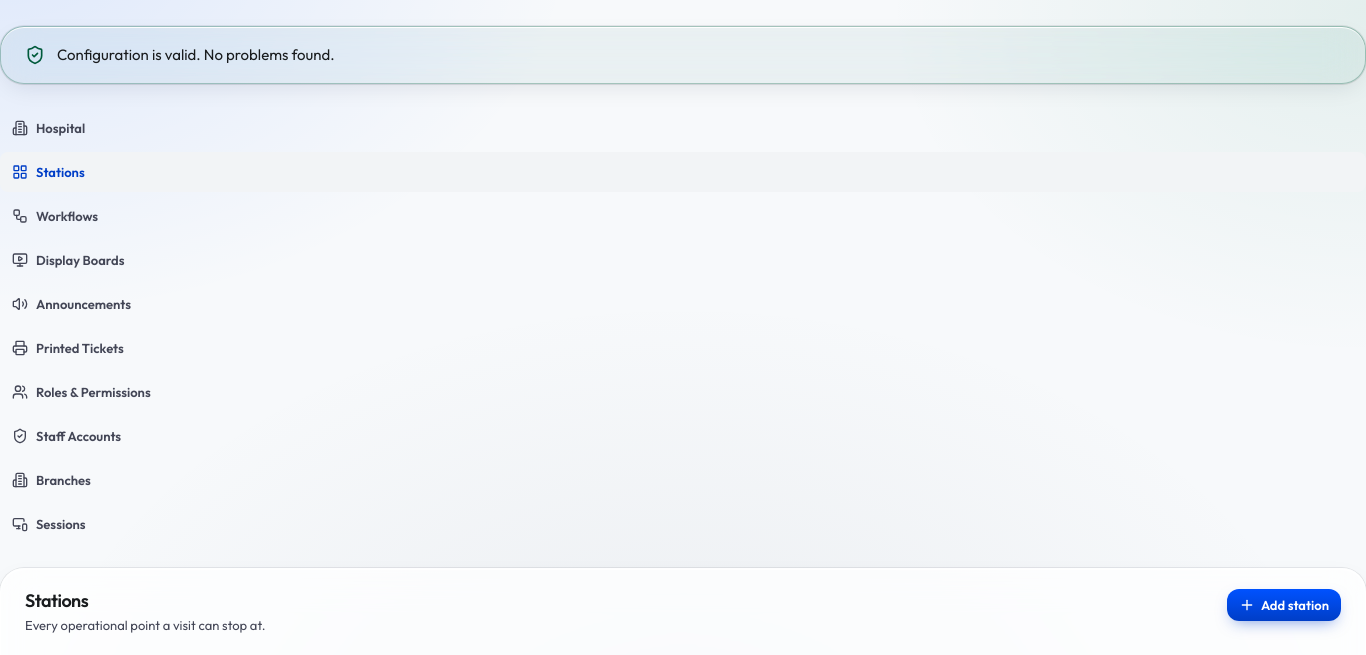
Test case: Administration Portal › adds a station without touching code
Click the button "Add station". click: (1284, 605)
box: [1227,589,1341,621]
(page scrolled)
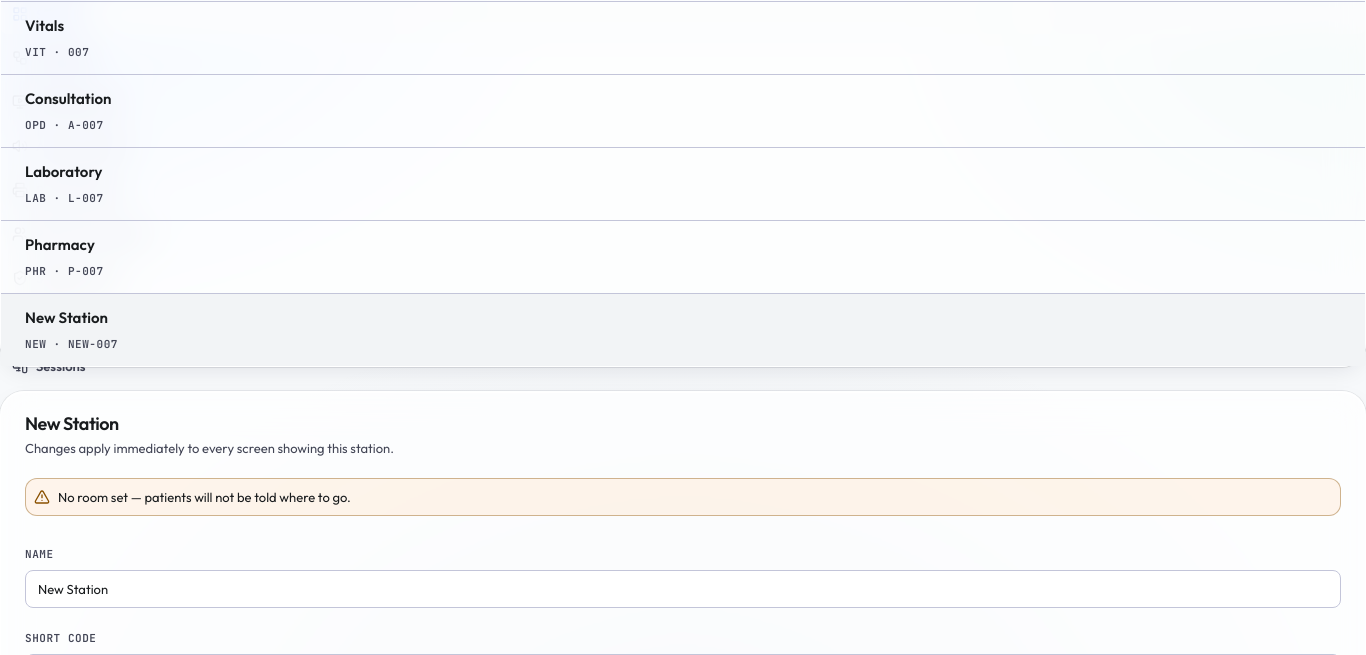
Result: the text "New Station" is shown at [25,308,108,327]
